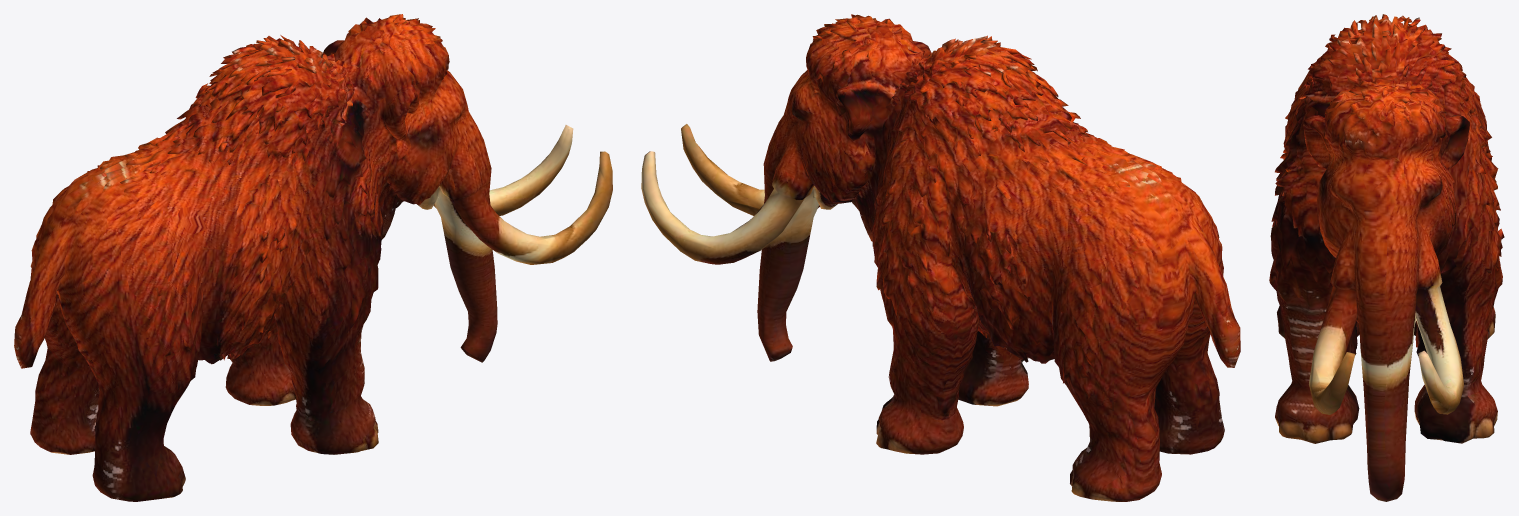
Rendered from mammoth.glb.
The picture shows the model from 3 angles, left to right: view 1: azimuth 30°, elevation 25°; view 2: azimuth 150°, elevation 25°; view 3: azimuth 270°, elevation 25°; orthographic projection. The views are drawn at different scales.
Visible parts, largest first — view 1: geometry_0; view 2: geometry_0; view 3: geometry_0.
Boxes of the visible parts, box(x1,y1,x2,y2) form: geometry_0: box(14, 14, 612, 501); geometry_0: box(641, 14, 1240, 501); geometry_0: box(1269, 14, 1504, 501).
Bounding box in the file's own units: 6 × 3.79 × 2.05.
1 material, 1 textured.
